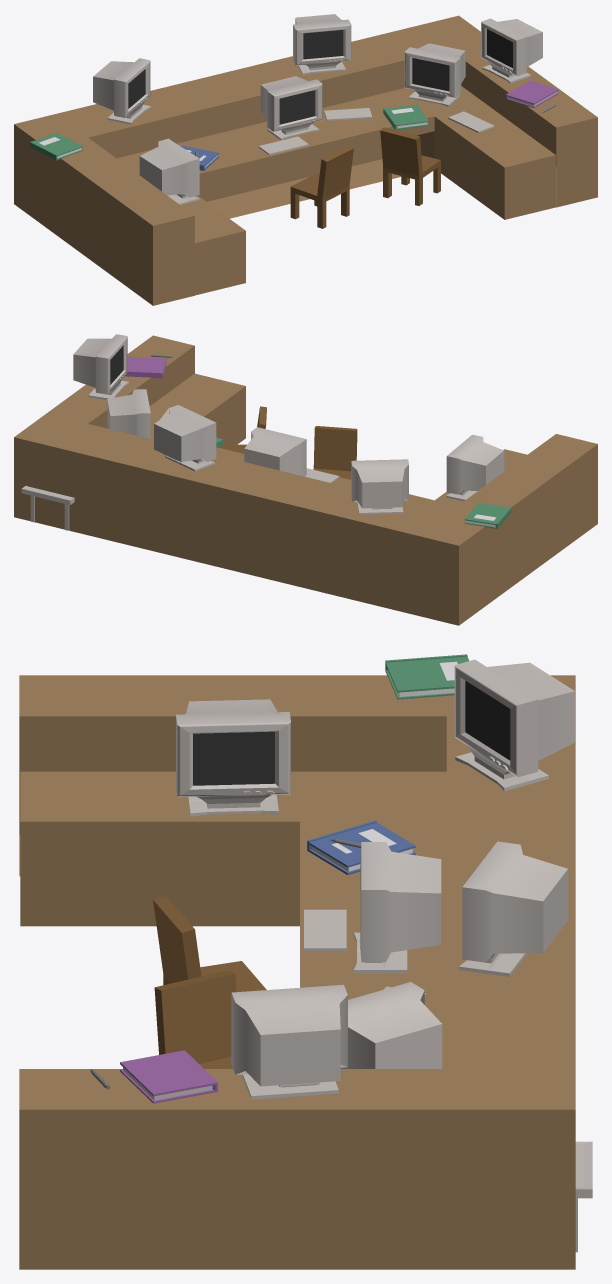
The model's file is ComputerTable.fbx.
3 views of the same model, one above another, from view 1: azimuth 30°, elevation 25°; view 2: azimuth 150°, elevation 25°; view 3: azimuth 270°, elevation 25° (orthographic). The views are drawn at different scales.
Visible parts, largest first — view 1: pCube1, pCube2, pCube8, pCube9, pCube10, pCube7, pCube6, pCube15, DeskChair:pCube2, pCube5, pCube14, pCube4 (+4 smaller); view 2: pCube1, pCube10, pCube7, pCube9, pCube6, pCube2, DeskChair:pCube2, pCube8, pCube14, pCube5, DeskChair:pCube1; view 3: pCube1, pCube6, pCube7, pCube9, pCube10, pCube2, pCube8, pCube15, DeskChair:pCube2, pCube5, pCube14, pCube3 (+2 smaller).
Boxes of the visible parts, box(x1,y1,x2,y2) form: pCube1: box(14, 15, 597, 305); pCube2: box(260, 76, 322, 139); pCube8: box(404, 43, 465, 106); pCube9: box(481, 18, 542, 83); pCube10: box(293, 14, 351, 74); pCube7: box(93, 58, 150, 124); pCube6: box(139, 138, 199, 205); pCube15: box(380, 127, 440, 205); DeskChair:pCube2: box(290, 145, 353, 228); pCube5: box(505, 80, 558, 107); pCube14: box(29, 133, 83, 160); pCube4: box(383, 104, 428, 129); pCube1: box(14, 335, 597, 625); pCube10: box(154, 405, 216, 471); pCube7: box(351, 459, 408, 514); pCube9: box(73, 334, 128, 399); pCube6: box(446, 434, 504, 500); pCube2: box(244, 427, 306, 476); DeskChair:pCube2: box(313, 426, 357, 479); pCube8: box(107, 389, 150, 438); pCube14: box(464, 503, 511, 528); pCube5: box(124, 356, 166, 378); DeskChair:pCube1: box(21, 486, 74, 530); pCube1: box(19, 675, 575, 1269); pCube6: box(176, 699, 290, 816); pCube7: box(454, 659, 574, 791); pCube9: box(231, 984, 347, 1099); pCube10: box(459, 841, 568, 976); pCube2: box(353, 842, 441, 973); pCube8: box(340, 982, 442, 1068); pCube15: box(154, 970, 236, 1068); DeskChair:pCube2: box(153, 896, 266, 991); pCube5: box(120, 1050, 217, 1103); pCube14: box(385, 654, 469, 699); pCube3: box(307, 820, 415, 874).
Bounding box in the file's own units: 88.19 × 22.82 × 47.42.
